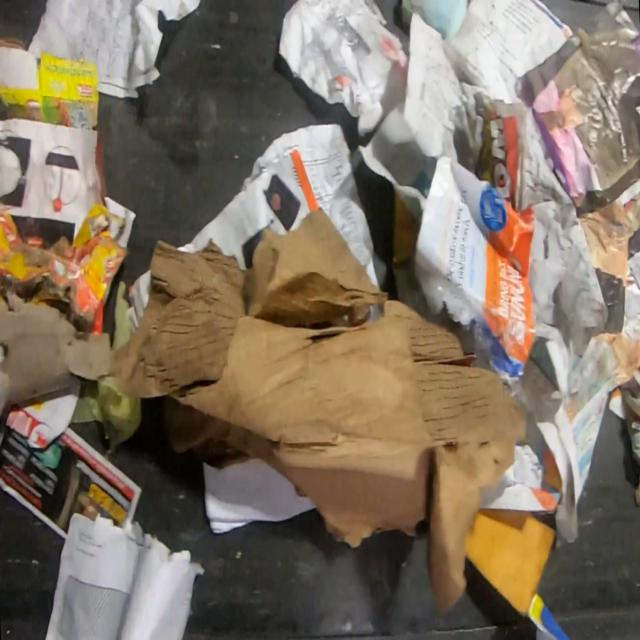cardboard: (109, 207, 528, 621), (0, 193, 138, 333), (0, 282, 112, 423), (466, 508, 558, 618), (0, 37, 101, 132), (68, 373, 144, 452), (110, 280, 134, 352)
